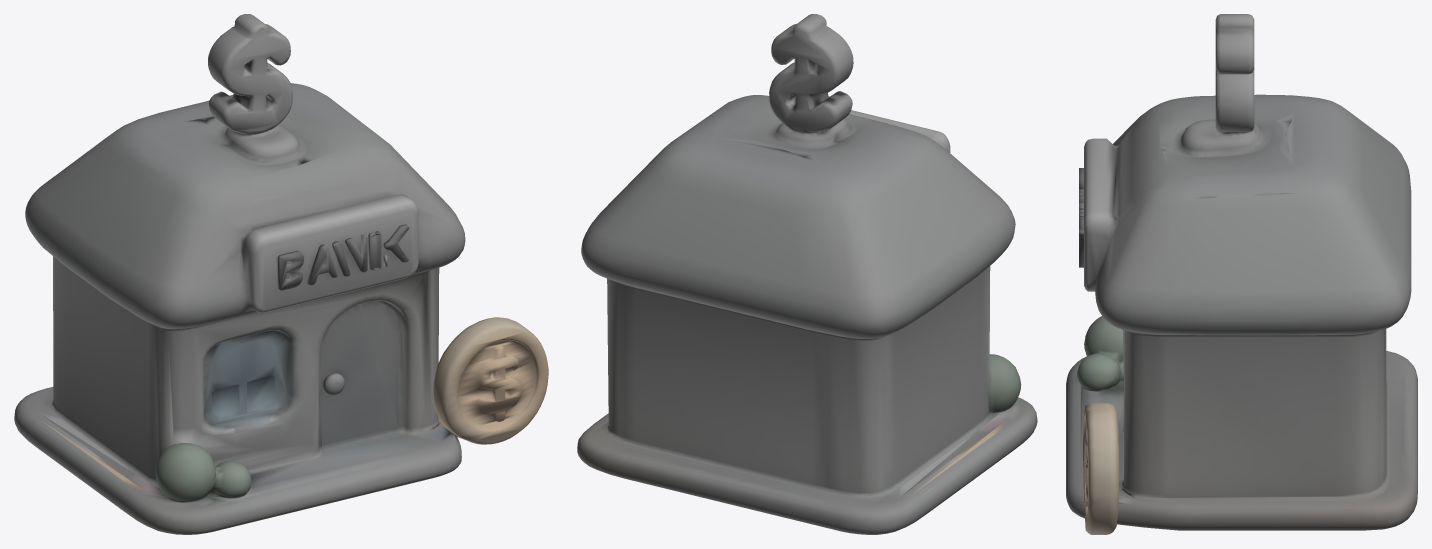
The model's file is bank_1.glb.
The picture shows the model from 3 angles, left to right: view 1: azimuth 30°, elevation 25°; view 2: azimuth 150°, elevation 25°; view 3: azimuth 270°, elevation 25°; orthographic projection. The views are drawn at different scales.
Visible parts, largest first — view 1: tripo_node_c34e1c5f; view 2: tripo_node_c34e1c5f; view 3: tripo_node_c34e1c5f.
Part boxes in pixels (x1,y1,x2,y2): tripo_node_c34e1c5f: (14, 14, 548, 534); tripo_node_c34e1c5f: (577, 14, 1037, 534); tripo_node_c34e1c5f: (1066, 14, 1417, 534).
Bounding box in the file's own units: 0.9681 × 1 × 0.7245.
1 material, 1 textured.
